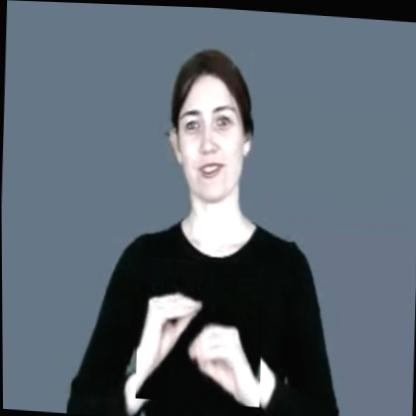Fix: (134, 255, 264, 405)
